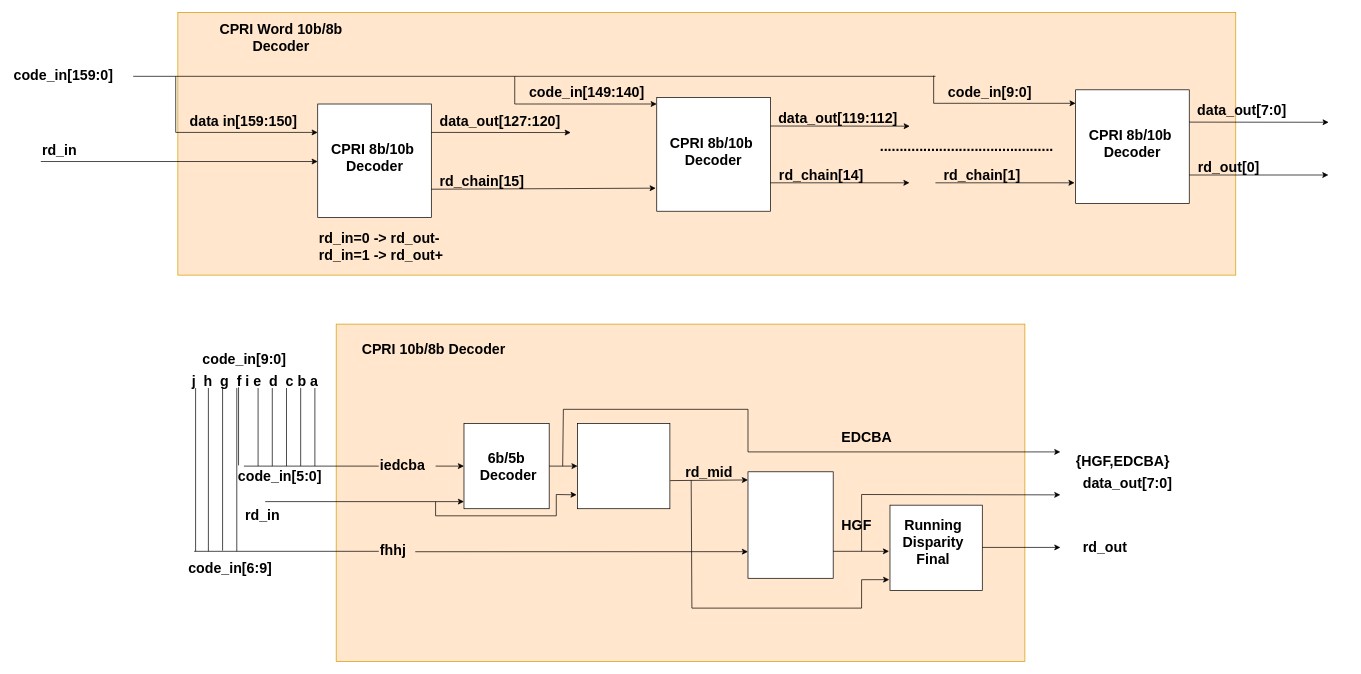
The diagram is 1361 pixels wide and 674 high, and some of its shapes have lost their labels. The centre of each missing label's shape, as x and y in pixels:
"4b/3b Decoder" goes at (x=790, y=524).
"Running Disparity Intermediate" goes at (x=623, y=466).
